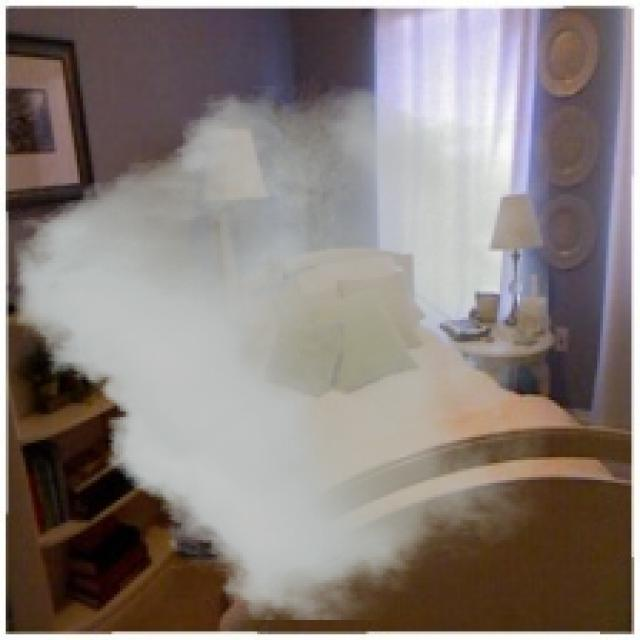smoke: (14, 86, 549, 620)
